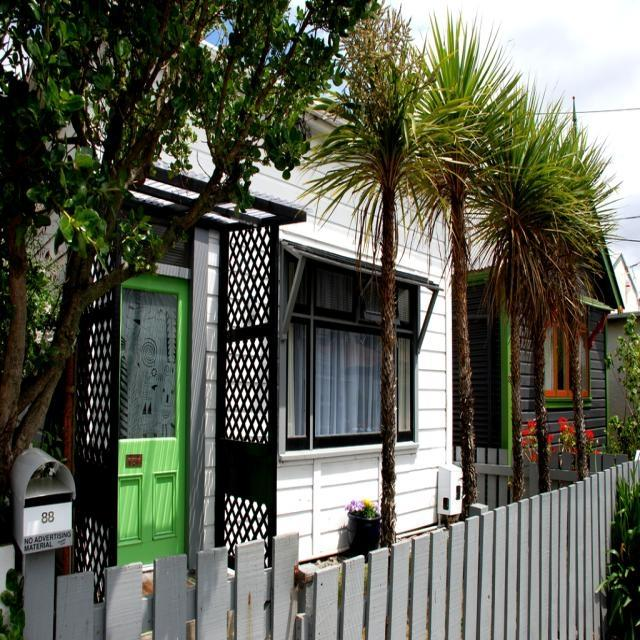door: (55, 157, 254, 640)
